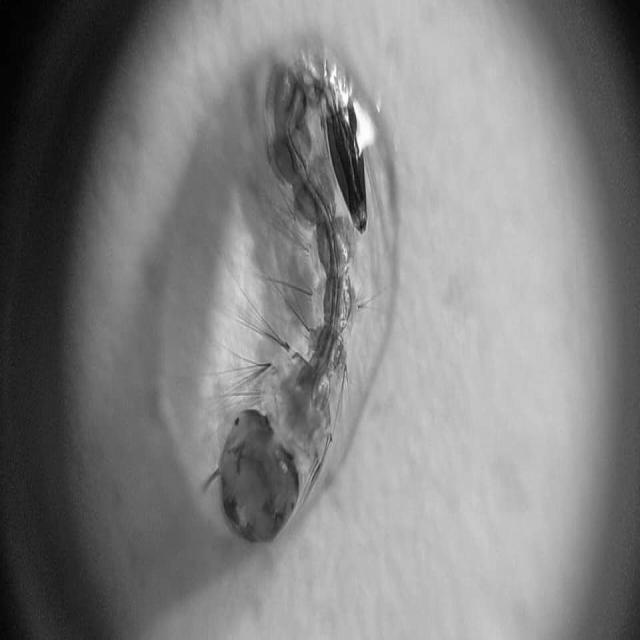larvas: (212, 53, 362, 540)
